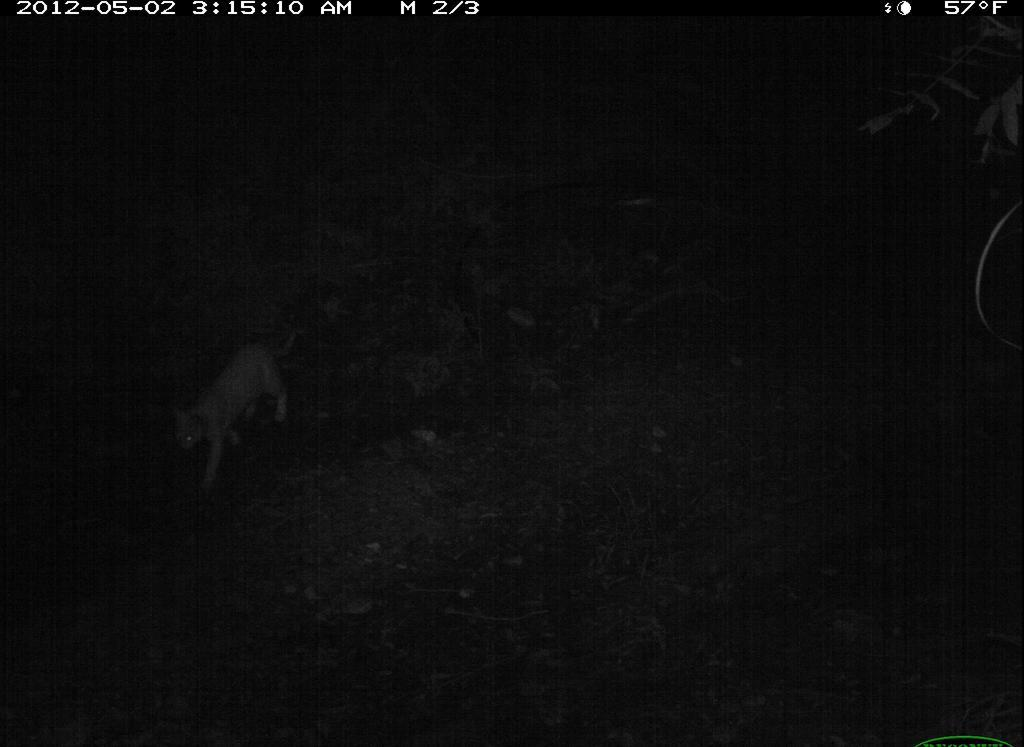cat: (139, 314, 318, 497)
